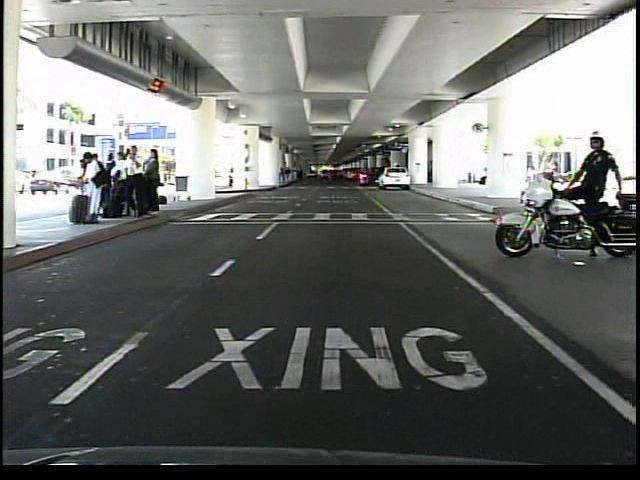person: (566, 128, 620, 263), (478, 160, 491, 192)
